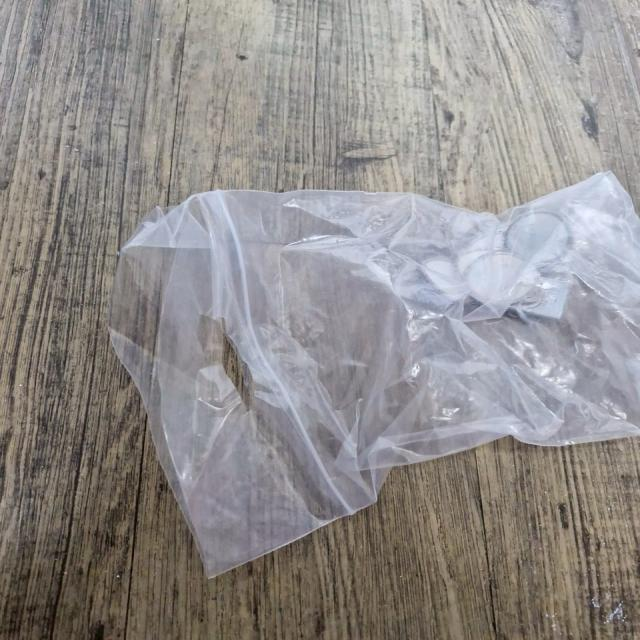plastic bag: (101, 170, 640, 585)
